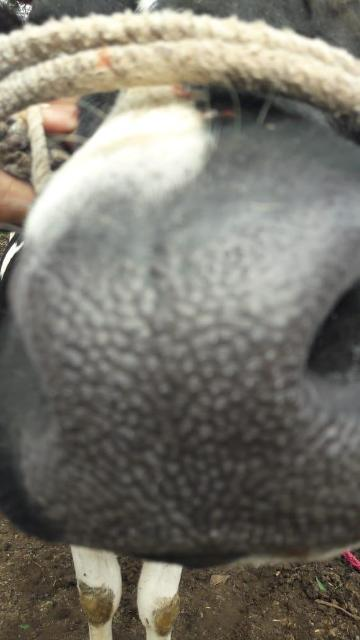Muzzle: (44, 250, 294, 518)
